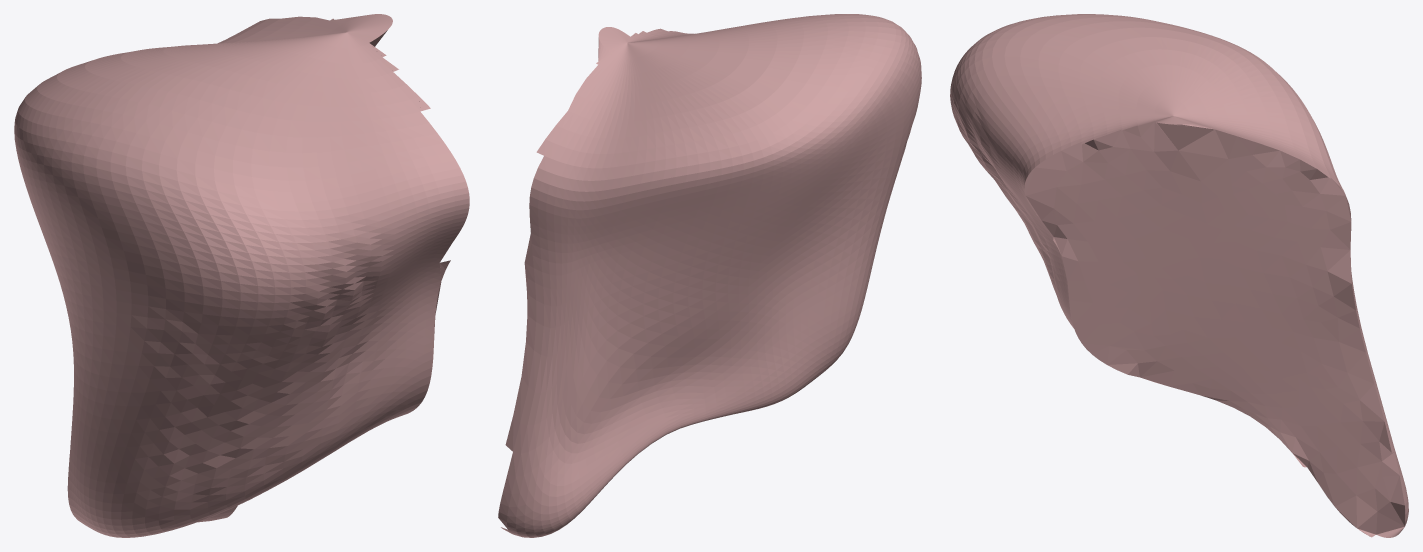
File: Midbrain.obj
3 renders of one model, left to right at view 1: azimuth 30°, elevation 25°; view 2: azimuth 150°, elevation 25°; view 3: azimuth 270°, elevation 25°, orthographic. The views are drawn at different scales.
Visible parts, largest first — view 1: obj0; view 2: obj0; view 3: obj0.
Boxes of the visible parts, <box> form: obj0: <box>14,14,469,537</box>; obj0: <box>498,14,921,537</box>; obj0: <box>950,14,1408,537</box>.
Bounding box in the file's own units: 7.27 × 11.8 × 11.34.
Materials: 1 (1 with a texture image).
